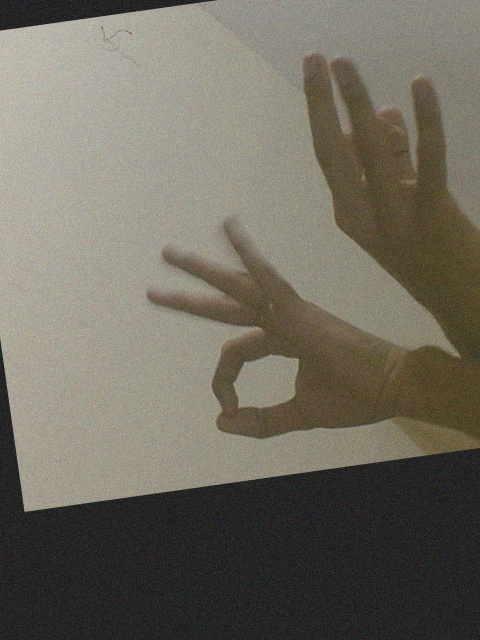hand: (141, 211, 432, 445), (297, 49, 480, 326)
